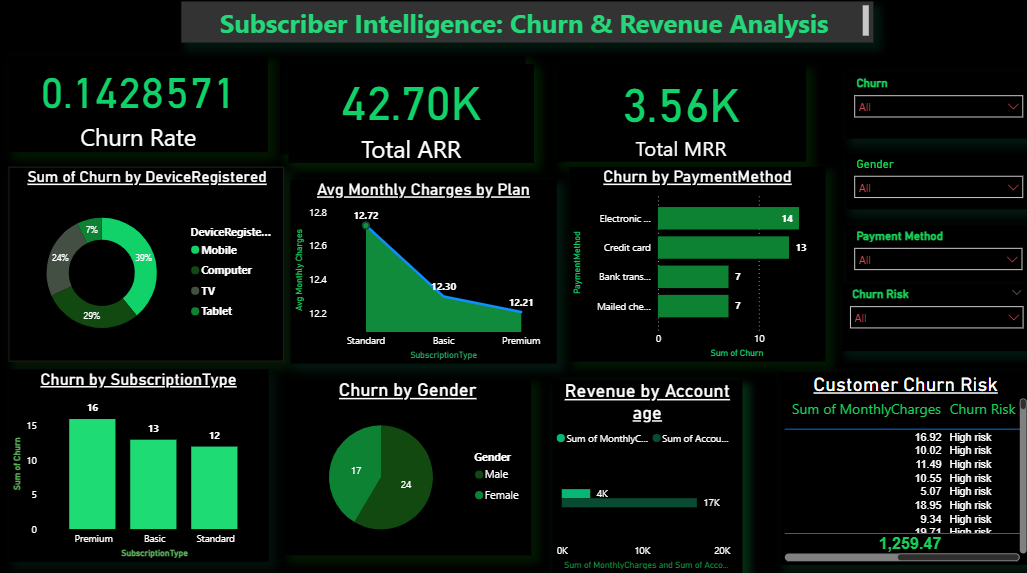

The dashboard page shown, as its layout file describes it:
{"tool":"powerbi","page":{"name":"Page 1","canvas":[1280,720],"ordinal":0},"visuals":[{"type":"card","fields":{"Values":["Subscription_Service_Churn_Dataset.Churn Rate"]},"box":[11.8,77.6,322.2,119.7],"z":0},{"type":"card","fields":{"Values":["Subscription_Service_Churn_Dataset.Total ARR"]},"box":[348.5,77.6,305.1,122.3],"z":1000},{"type":"card","fields":{"Values":["Subscription_Service_Churn_Dataset.Total MRR"]},"box":[691.7,89.7,309.7,120.1],"z":2000},{"type":"donutChart","fields":{"Category":["Subscription_Service_Churn_Dataset.DeviceRegistered"],"Y":["Sum(Subscription_Service_Churn_Dataset.Churn)"]},"box":[11.8,215.6,341.9,241.9],"z":3000},{"type":"clusteredBarChart","title":" Churn by PaymentMethod","fields":{"Category":["Subscription_Service_Churn_Dataset.PaymentMethod"],"Y":["Sum(Subscription_Service_Churn_Dataset.Churn)"]},"box":[707.4,215.6,318.2,241.9],"z":4000},{"type":"pieChart","title":"Churn by Gender","fields":{"Y":["Sum(Subscription_Service_Churn_Dataset.Churn)"],"Category":["Subscription_Service_Churn_Dataset.Gender"]},"box":[353.1,479,306.8,218.5],"z":5000},{"type":"clusteredBarChart","title":"Revenue by Account age","fields":{"Y":["Sum(Subscription_Service_Churn_Dataset.MonthlyCharges)","Sum(Subscription_Service_Churn_Dataset.AccountAge)"]},"box":[686.4,479.9,259,240.6],"z":6000},{"type":"stackedAreaChart","title":"Avg Monthly Charges by Plan","fields":{"Category":["Subscription_Service_Churn_Dataset.SubscriptionType"],"Y":["Subscription_Service_Churn_Dataset.Avg Monthly Charges"]},"box":[361.8,231.5,329.9,228.6],"z":7000},{"type":"tableEx","title":"Customer Churn Risk","fields":{"Values":["Sum(Subscription_Service_Churn_Dataset.AccountAge)","Subscription_Service_Churn_Dataset.CustomerID","Sum(Subscription_Service_Churn_Dataset.MonthlyCharges)","Subscription_Service_Churn_Dataset.Churn Risk"]},"box":[967.8,469.4,311.6,238],"z":8000},{"type":"slicer","fields":{"Values":["Subscription_Service_Churn_Dataset.Gender"]},"box":[1050.6,198.2,230.1,69.5],"z":9000},{"type":"slicer","fields":{"Values":["Subscription_Service_Churn_Dataset.PaymentMethod"]},"box":[1050.6,288,228.6,72.4],"z":10000},{"type":"slicer","fields":{"Values":["Subscription_Service_Churn_Dataset.Churn"]},"box":[1050.6,98.4,230.1,82.5],"z":11000},{"type":"slicer","fields":{"Values":["Subscription_Service_Churn_Dataset.Churn Risk"]},"box":[1044.8,360.3,235.9,83.9],"z":12000},{"type":"textbox","box":[225.7,10.1,858.1,50.6],"z":13000},{"type":"clusteredColumnChart","title":" Churn by SubscriptionType","fields":{"Category":["Subscription_Service_Churn_Dataset.SubscriptionType"],"Y":["Sum(Subscription_Service_Churn_Dataset.Churn)"]},"box":[11.6,467.4,322.7,238.8],"z":14000},{"type":"card","fields":{"Values":["Subscription_Service_Churn_Dataset.Total ARR"]},"box":[358.5,87.6,305.1,122.3],"z":15000}]}

Visuals, with their boxes in screenshot pixels (x1, y1, x2, y2), scaled from the page's 1280x720 canvas onto the 1027x573 screenshot:
card - Subscription_Service_Churn_Dataset.Churn Rate: crop(9, 62, 268, 157)
card - Subscription_Service_Churn_Dataset.Total ARR: crop(280, 62, 524, 159)
card - Subscription_Service_Churn_Dataset.Total MRR: crop(555, 71, 803, 167)
donutChart - Subscription_Service_Churn_Dataset.DeviceRegistered x Sum(Subscription_Service_Churn_Dataset.Churn): crop(9, 172, 284, 364)
" Churn by PaymentMethod" clusteredBarChart: crop(568, 172, 823, 364)
"Churn by Gender" pieChart: crop(283, 381, 529, 555)
"Revenue by Account age" clusteredBarChart: crop(551, 382, 759, 572)
"Avg Monthly Charges by Plan" stackedAreaChart: crop(290, 184, 555, 366)
"Customer Churn Risk" tableEx: crop(777, 374, 1026, 563)
slicer - Subscription_Service_Churn_Dataset.Gender: crop(843, 158, 1026, 213)
slicer - Subscription_Service_Churn_Dataset.PaymentMethod: crop(843, 229, 1026, 287)
slicer - Subscription_Service_Churn_Dataset.Churn: crop(843, 78, 1026, 144)
slicer - Subscription_Service_Churn_Dataset.Churn Risk: crop(838, 287, 1026, 354)
textbox: crop(181, 8, 870, 48)
" Churn by SubscriptionType" clusteredColumnChart: crop(9, 372, 268, 562)
card - Subscription_Service_Churn_Dataset.Total ARR: crop(288, 70, 532, 167)
